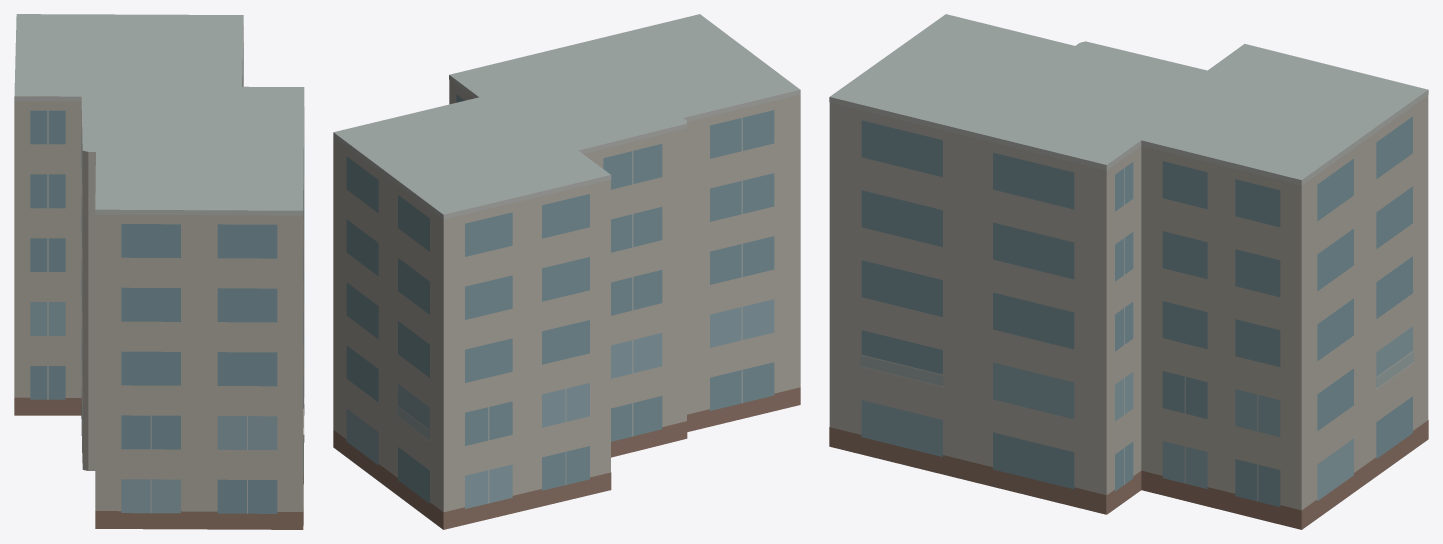
The model's file is survey-upis-32675861.glb.
3 views of the same model, side by side, from view 1: azimuth 30°, elevation 25°; view 2: azimuth 150°, elevation 25°; view 3: azimuth 270°, elevation 25° (orthographic). The views are drawn at different scales.
Parts seen in each view (by area): view 1: survey-upis-32675861.tmp; view 2: survey-upis-32675861.tmp; view 3: survey-upis-32675861.tmp.
Boxes of the visible parts, x1,y1,x2,y2 form: survey-upis-32675861.tmp: (14,14,304,529); survey-upis-32675861.tmp: (333,14,800,529); survey-upis-32675861.tmp: (829,14,1428,529).
Bounding box in the file's own units: 16.11 × 15.8 × 24.53.
